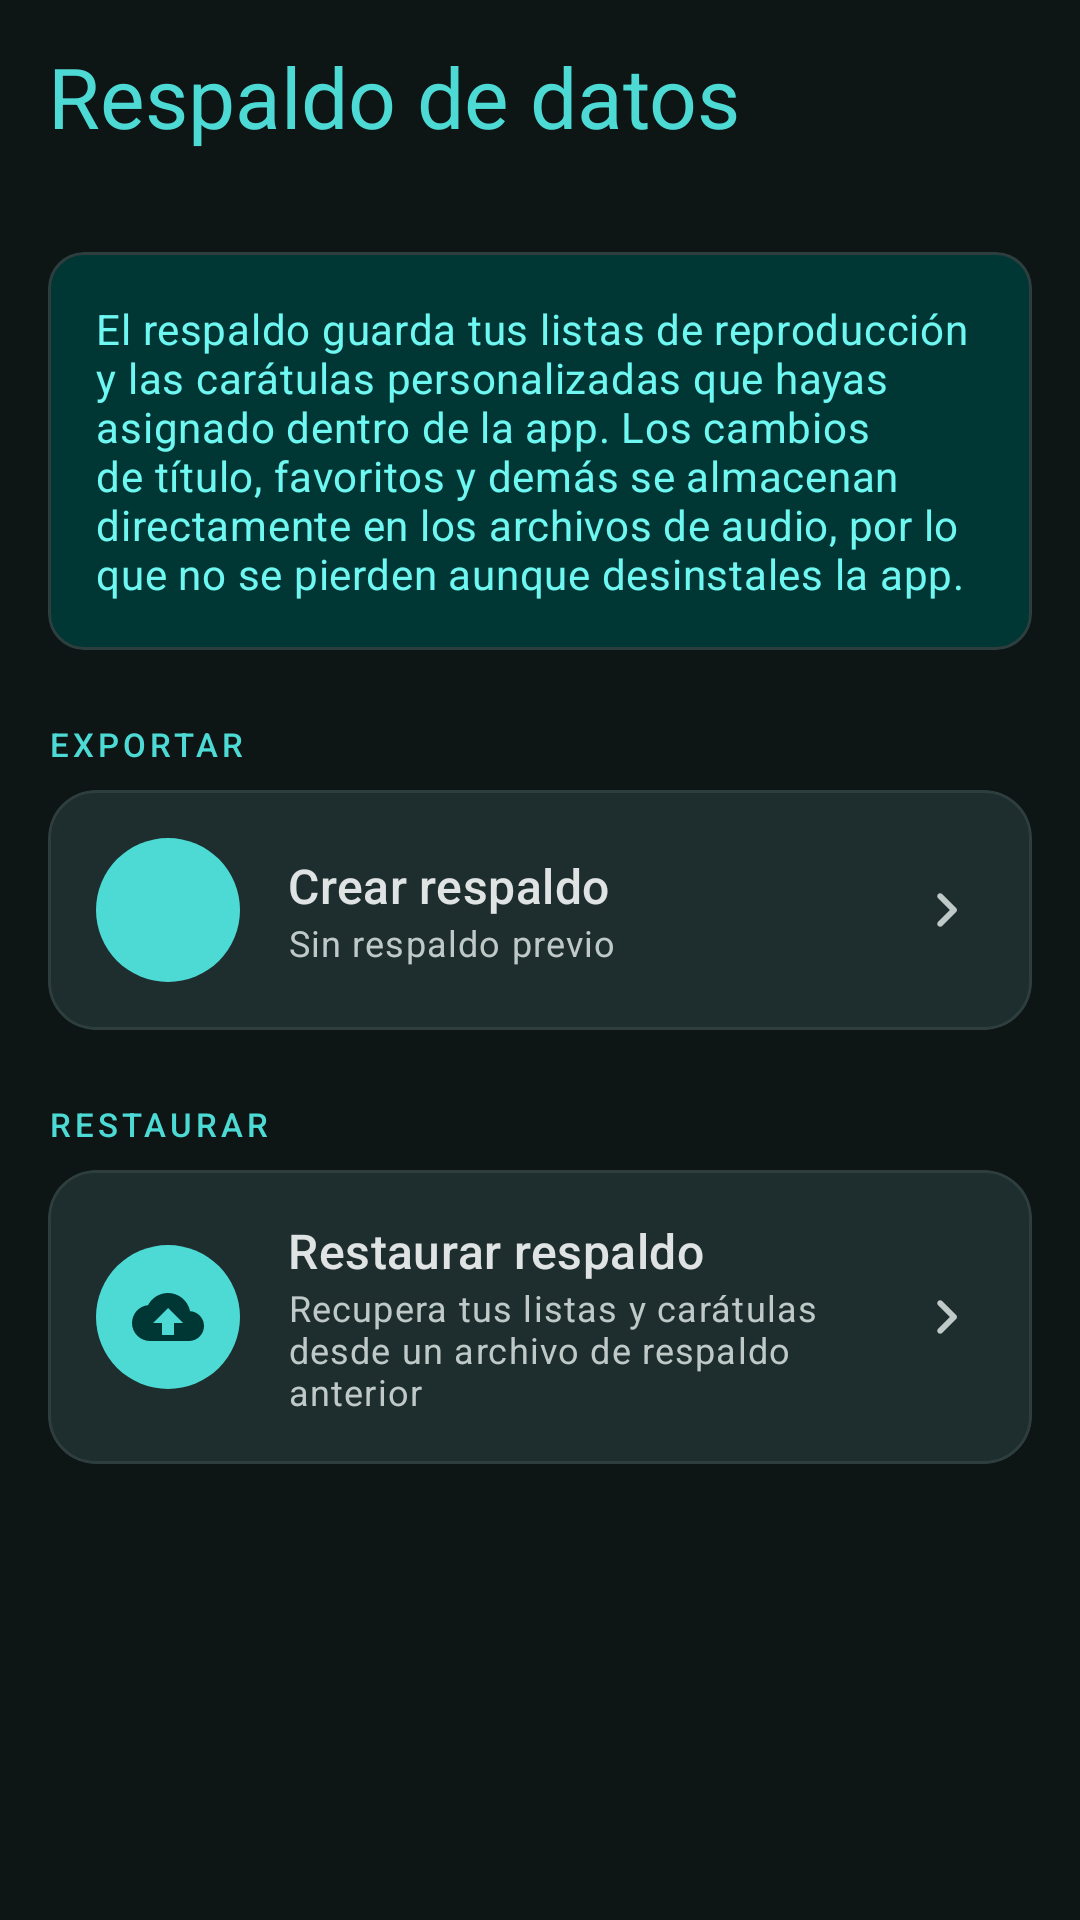

Icons on this 1080x1920 Android screen, each with the point to tap as [x,y]:
chevron right: [947,910], [947,1317]
